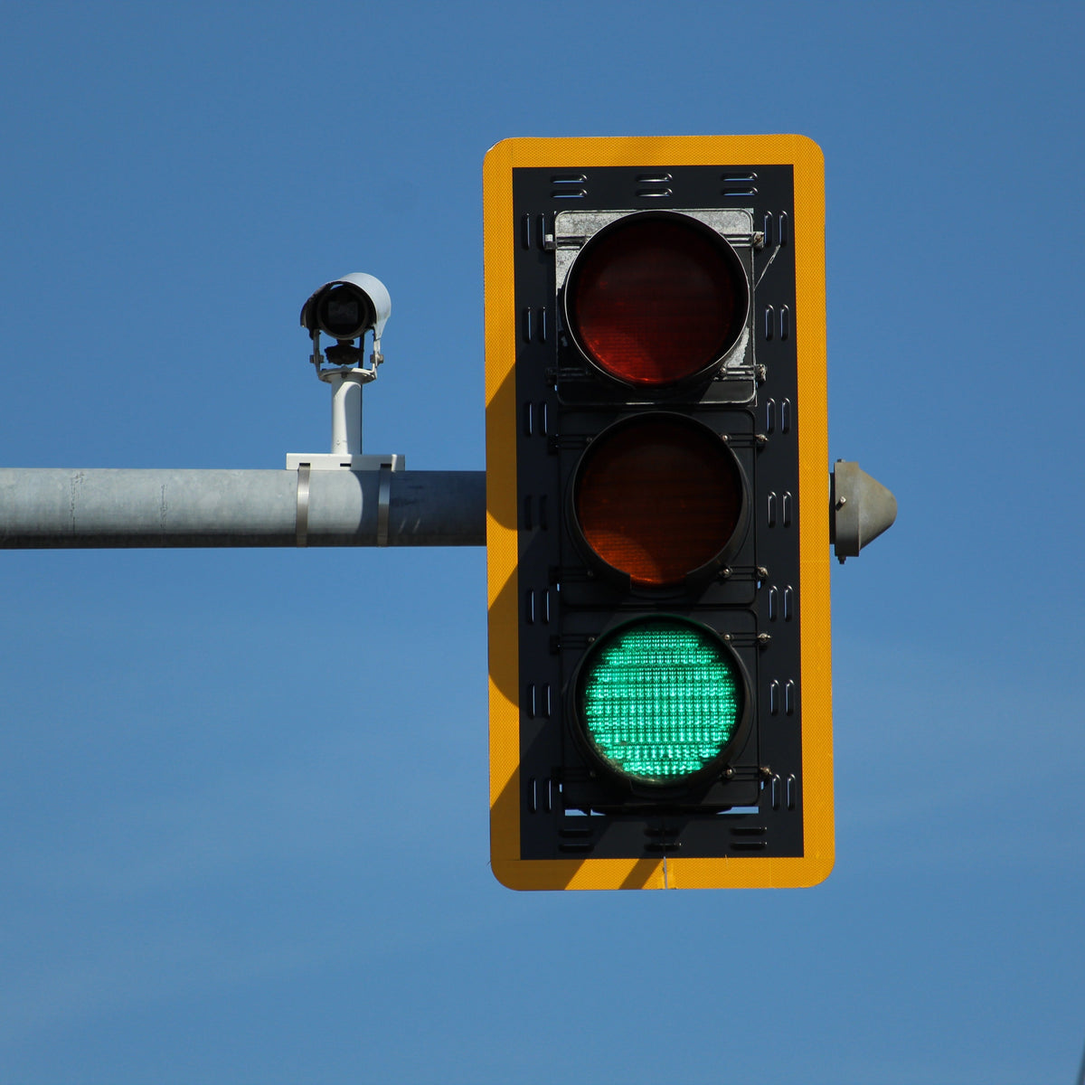TraficLight: (464, 110, 864, 901)
